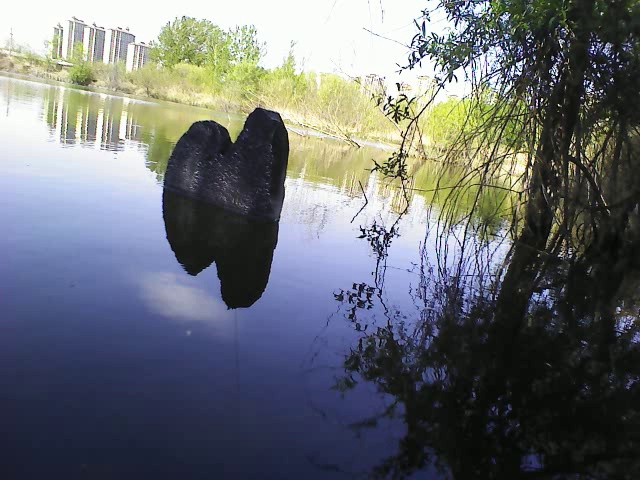rock: (163, 104, 292, 226)
